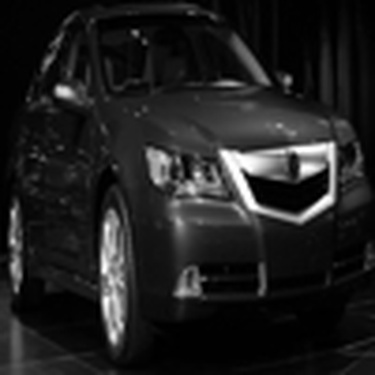car: (12, 2, 362, 332)
